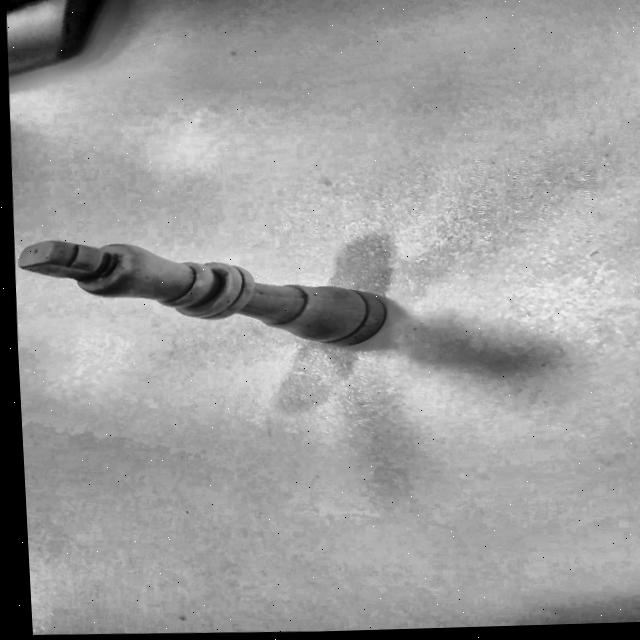white-king: (12, 224, 417, 355)
